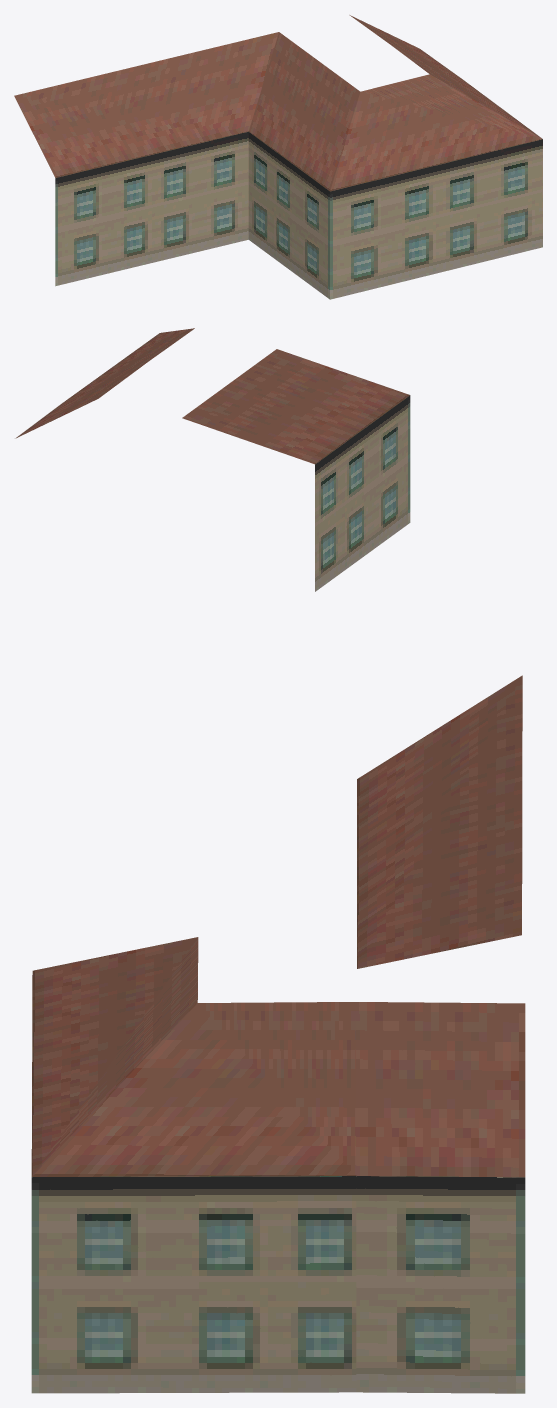
File: AApart04.glb
3 renders of one model, top to bottom at view 1: azimuth 30°, elevation 25°; view 2: azimuth 150°, elevation 25°; view 3: azimuth 270°, elevation 25°, orthographic. The views are drawn at different scales.
Parts seen in each view (by area): view 1: AApart04; view 2: AApart04; view 3: AApart04.
Part boxes in pixels (x1,y1,x2,y2): AApart04: (14,15,542,299); AApart04: (15,328,410,591); AApart04: (31,675,525,1393).
Bounding box in the file's own units: 4931 × 1871 × 2592.
Materials: 2 (2 with a texture image).
